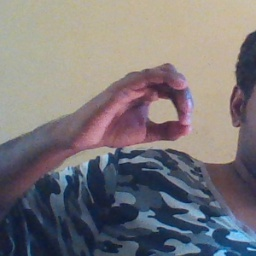O: (71, 60, 196, 154)
